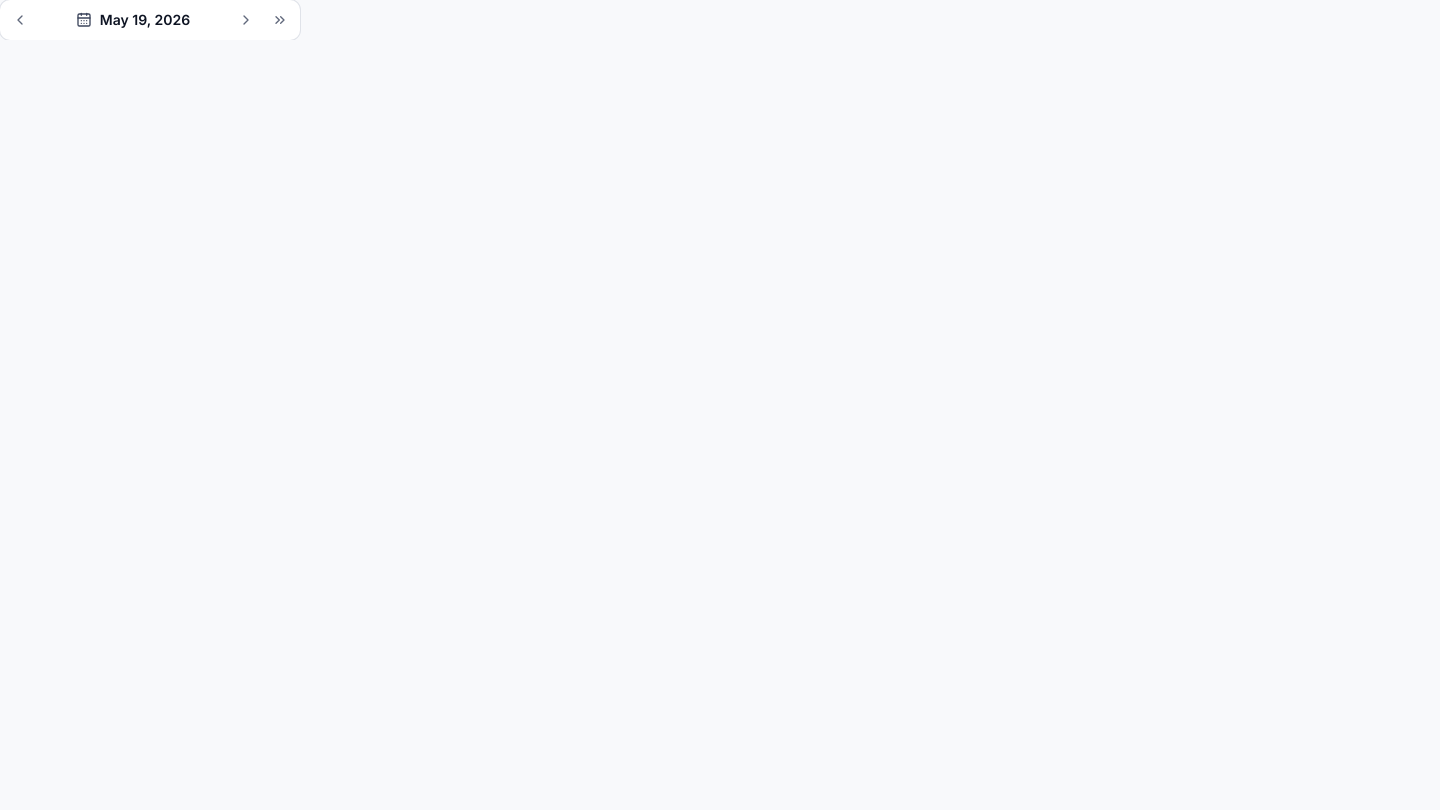
Scenario: ReportDateSwitcher › renders the picker in a portal so parent overflow cannot clip it
Click the button with aria-label "Open report date picker" at (133, 20), box [38, 4, 228, 36]
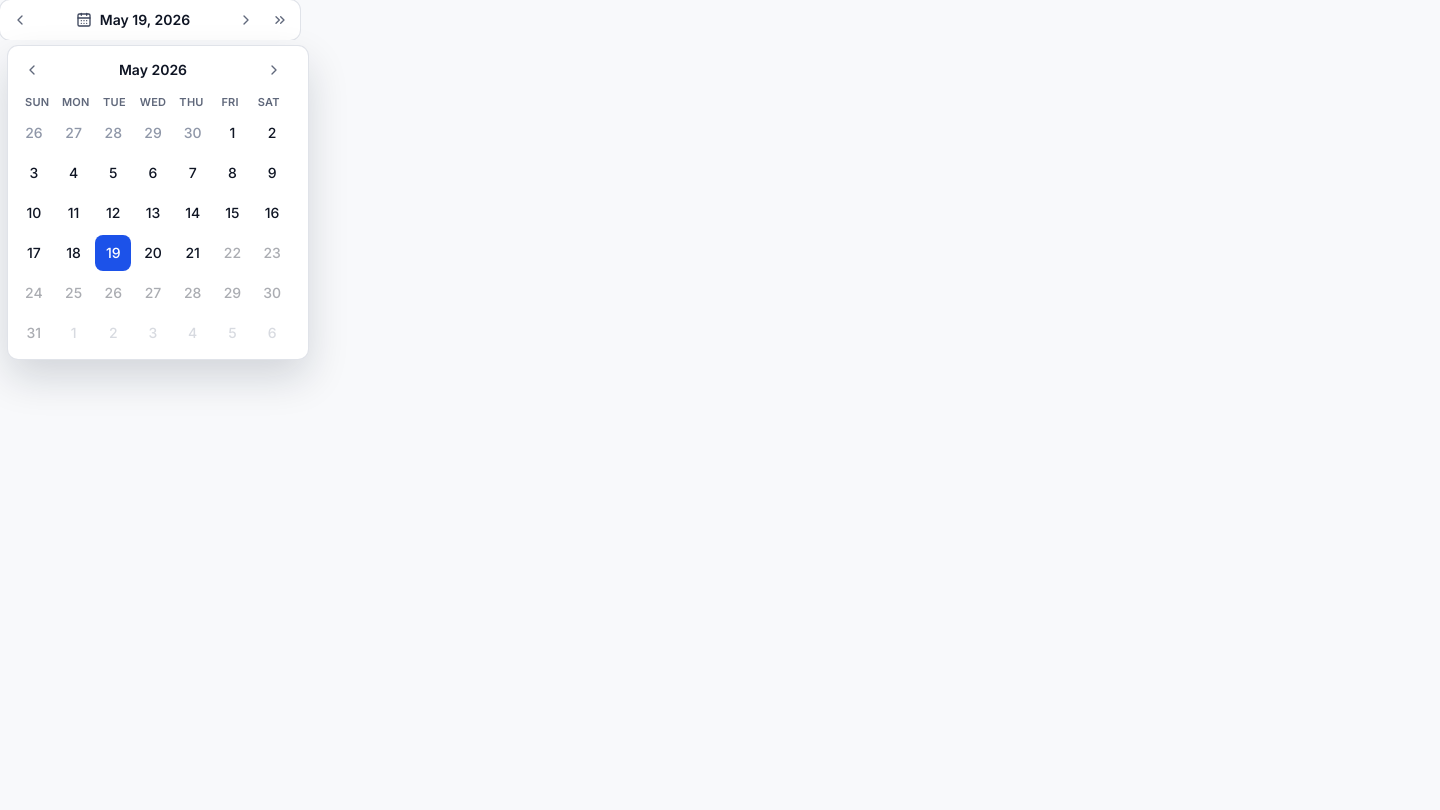
Result: the button named "Select May 20, 2026" is shown at [135, 234, 171, 270]
